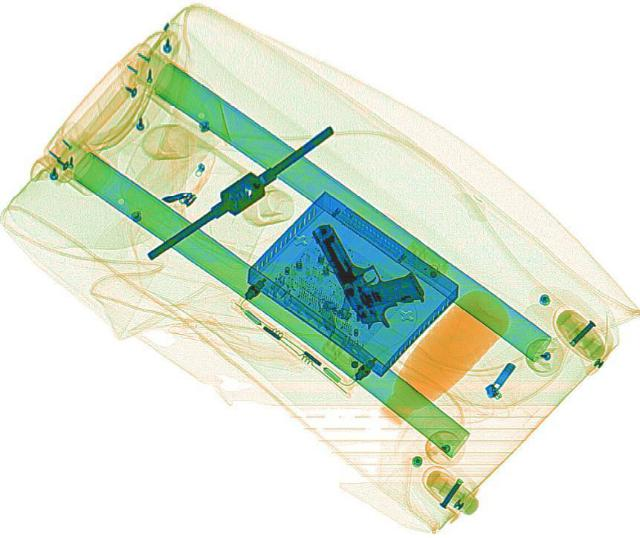Gun: (306, 206, 436, 334)
